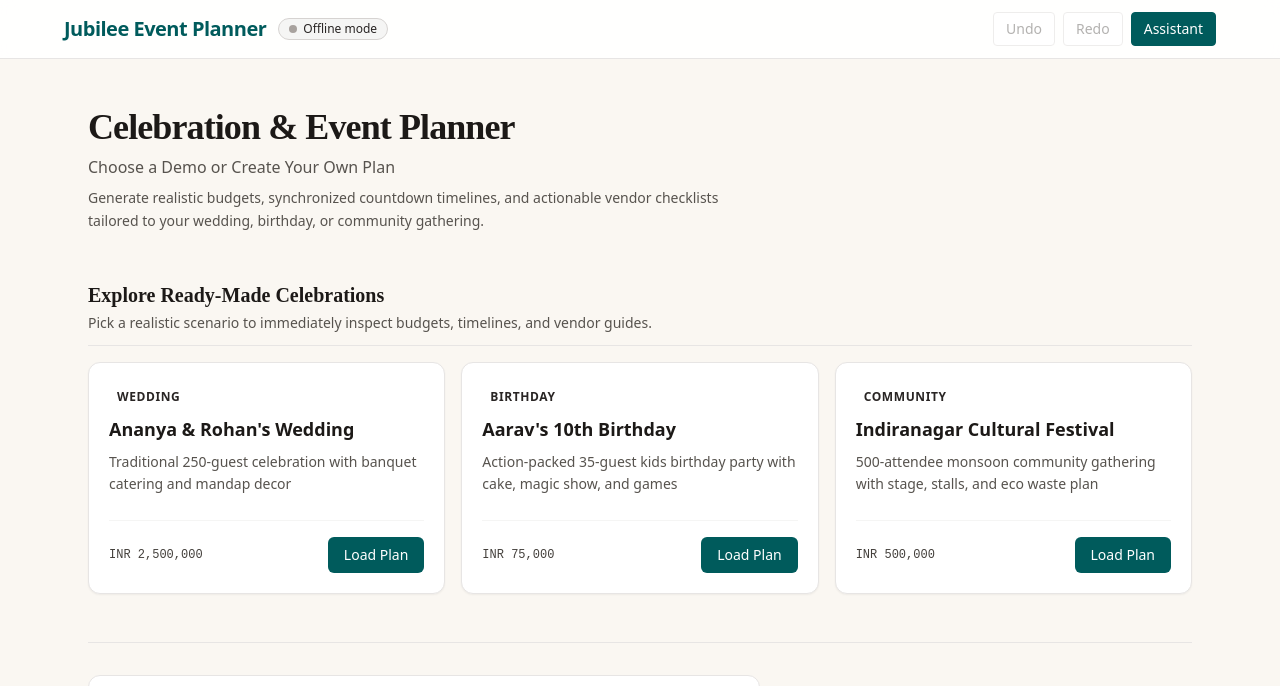
Scenario: End-to-end UI user flows › executes an assistant command in offline mode (type, preview, apply, and undo)
Click the button with aria-label "Ananya & Rohan's Wedding": point(376, 555) [328,537,424,573]
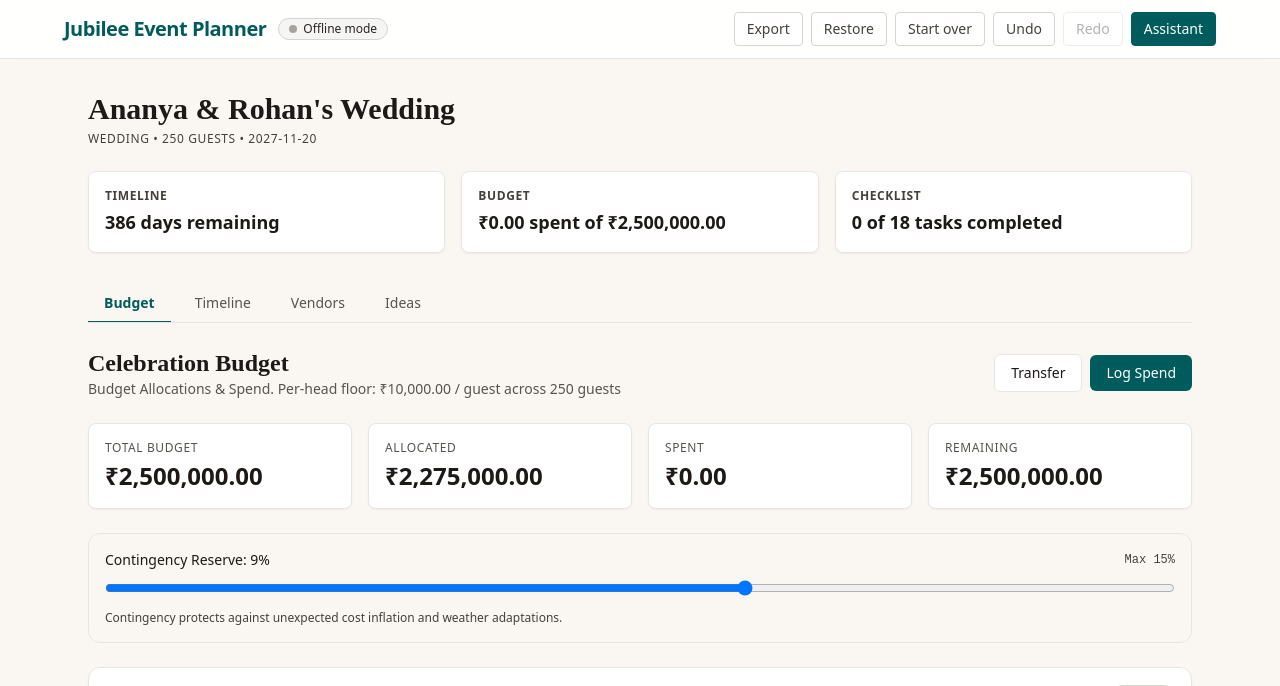
Expected: the heading "Ananya & Rohan's Wedding" is shown, [88,92,455,125]
Click the button "Assistant": point(1173, 29) [1131,12,1216,46]
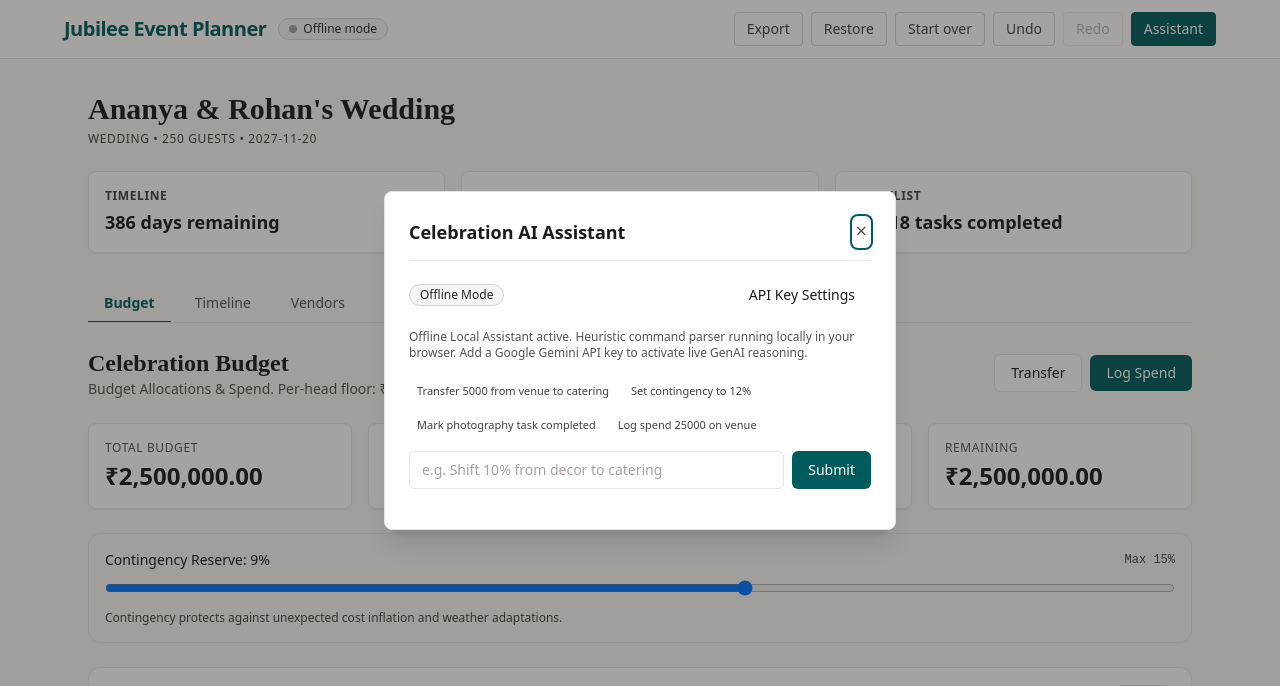
Expected: the heading "Celebration AI Assistant" is shown, [409,218,625,246]
In the field with placeholder "e.g. Shift 10% from decor to catering": point(597, 470) [409,450,784,488], type "set contingency to 12%"
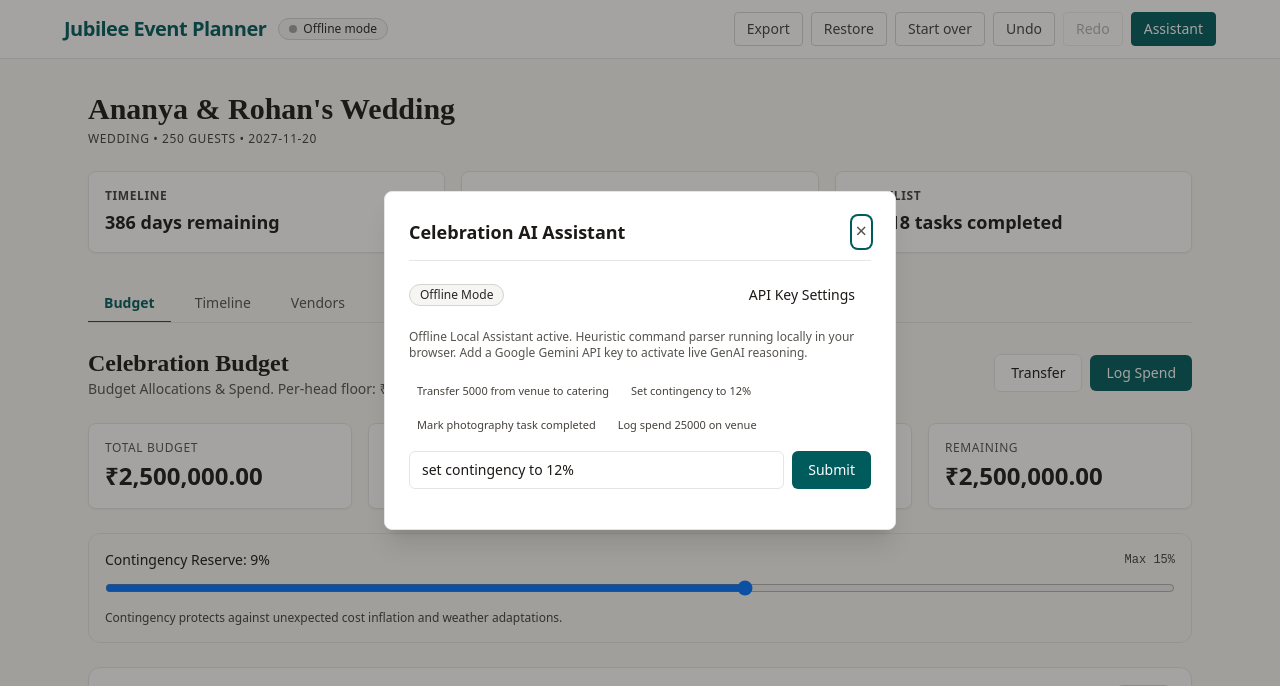
Click the button "Submit": point(832, 470) [792,450,871,488]
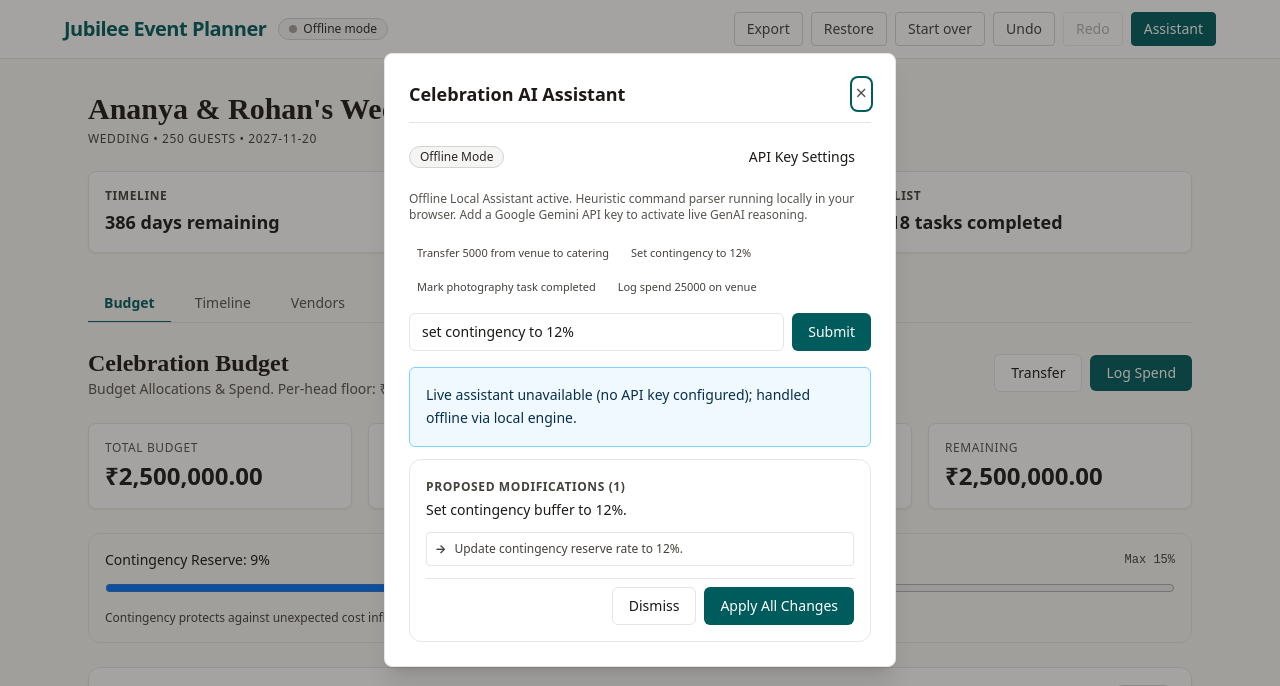
Expected: the text "Proposed Modifications (1)" is shown, [426,478,626,495]
Expected: the text "Update contingency reserve rate to 12%." is shown, [454,541,683,557]
Click the button "Apply All Changes": point(779, 606) [704,587,854,625]
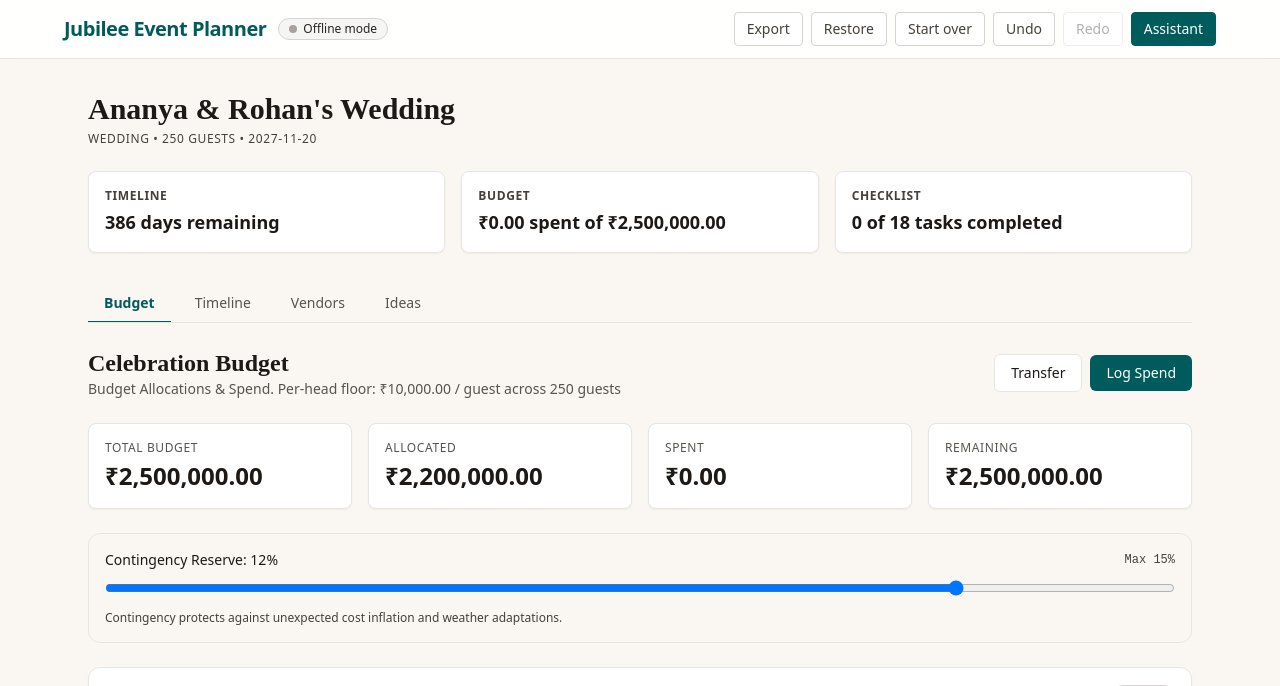
Expected: the text "Contingency Reserve: 12%" is shown, [105,550,278,570]
Click the button "Undo": point(1024, 29) [993,12,1055,46]
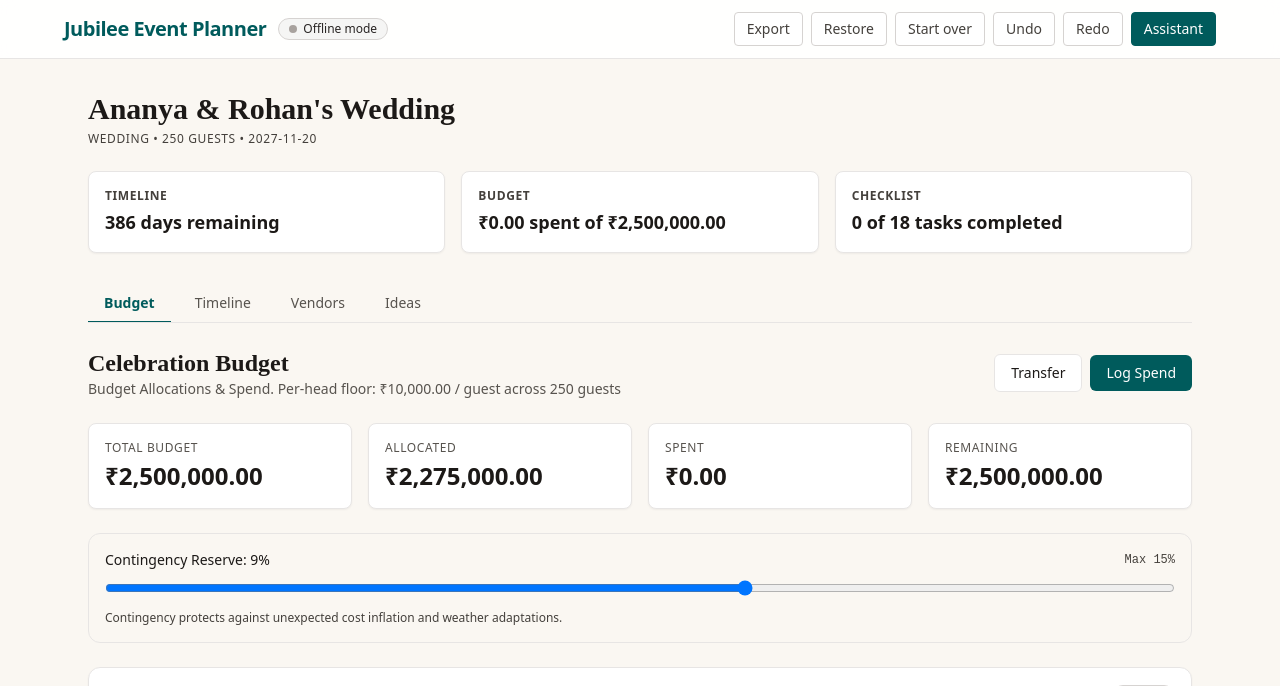
Expected: the text "NaN" is not shown
Expected: the text "Contingency Reserve: 9%" is shown, [105,550,270,570]
